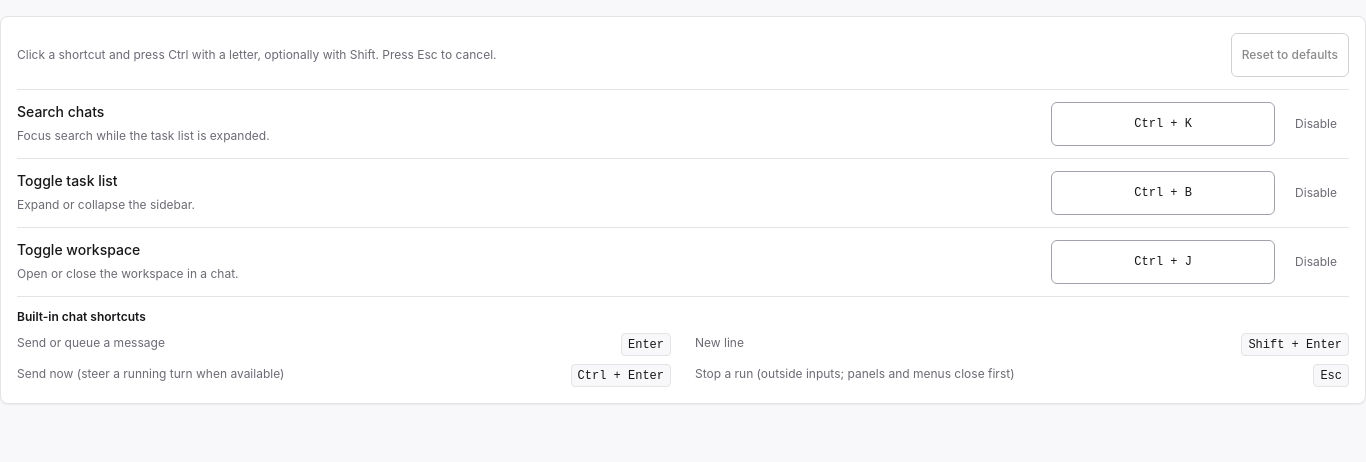
Scenario: keyboard shortcut settings › keeps the old shortcut when a candidate conflicts, is reserved, or has no modifier
Step 1. Click the button with aria-label "Change shortcut for Toggle task list" → (1163, 193), box x1=1051 y1=171 x2=1275 y2=215
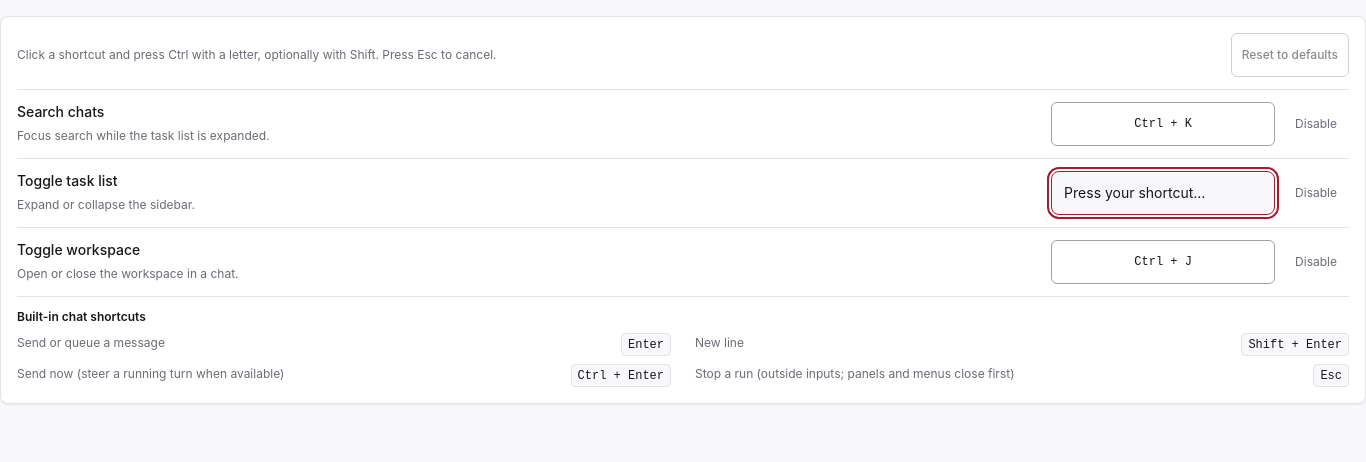
Step 2. Press k in the field named "New shortcut for Toggle task list", box x1=1051 y1=171 x2=1275 y2=215
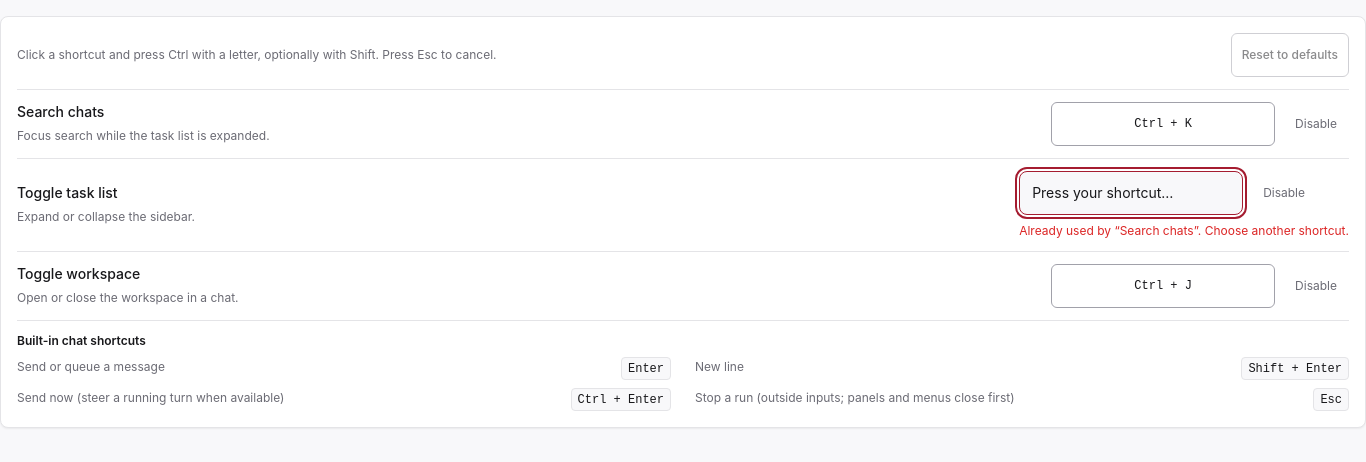
Expected: the message shows "Already used by “Search chats”", x1=1019 y1=223 x2=1349 y2=238
Step 3. Press w in the field named "New shortcut for Toggle task list", box x1=1019 y1=171 x2=1243 y2=215
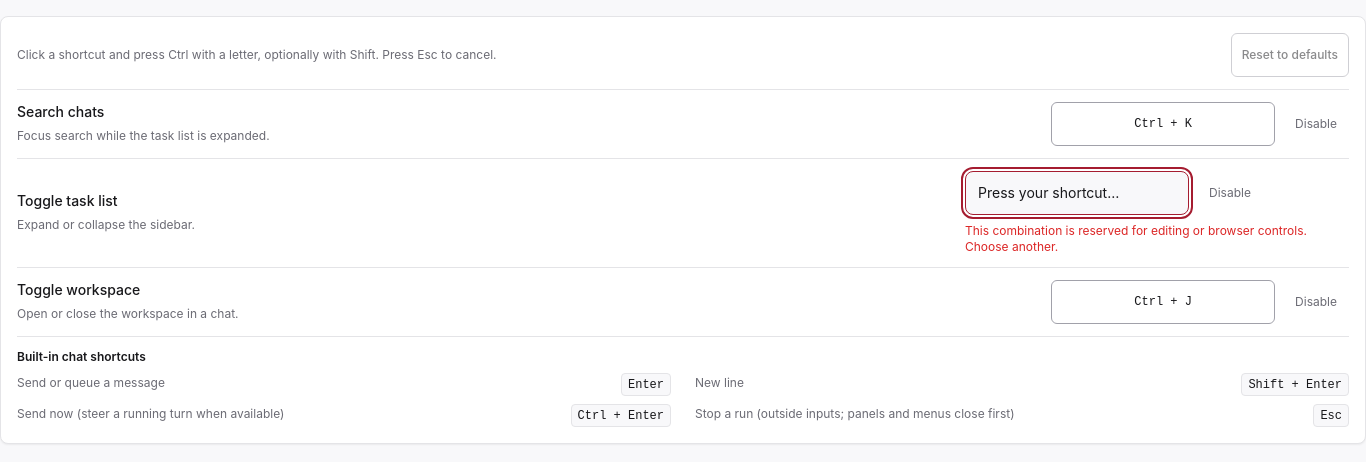
Expected: the message shows "reserved", x1=965 y1=223 x2=1307 y2=254
Step 4. Press g in the field named "New shortcut for Toggle task list", box x1=965 y1=171 x2=1189 y2=215
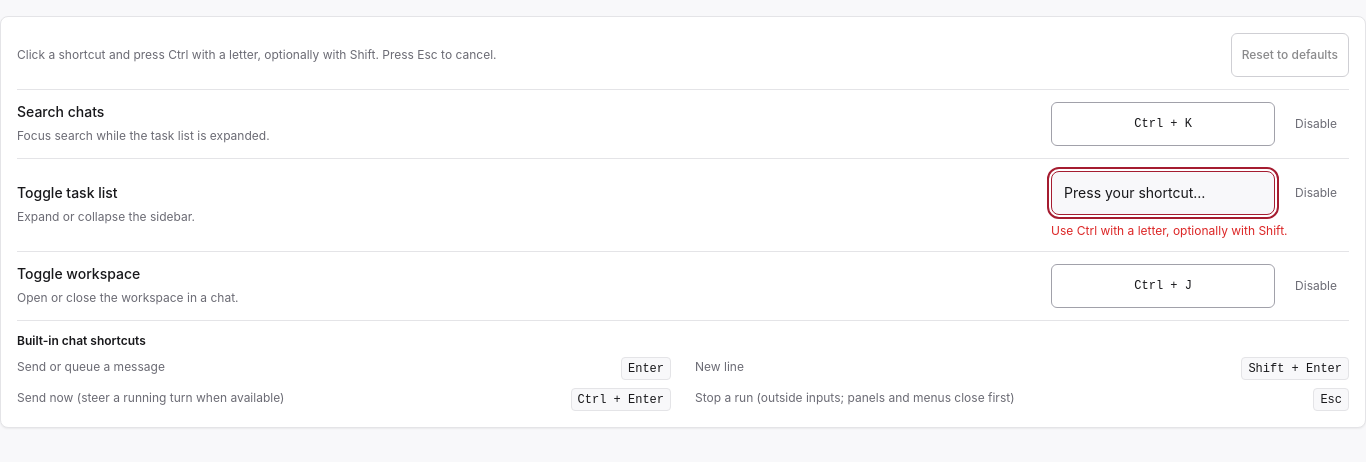
Expected: the message shows "Use Ctrl with a letter", x1=1051 y1=223 x2=1288 y2=238
Step 5. Press g in the field named "New shortcut for Toggle task list", box x1=1051 y1=171 x2=1275 y2=215
Expected: the message shows "Use Ctrl with a letter", x1=1051 y1=223 x2=1288 y2=238
Step 6. Press Escape in the field named "New shortcut for Toggle task list", box x1=1051 y1=171 x2=1275 y2=215
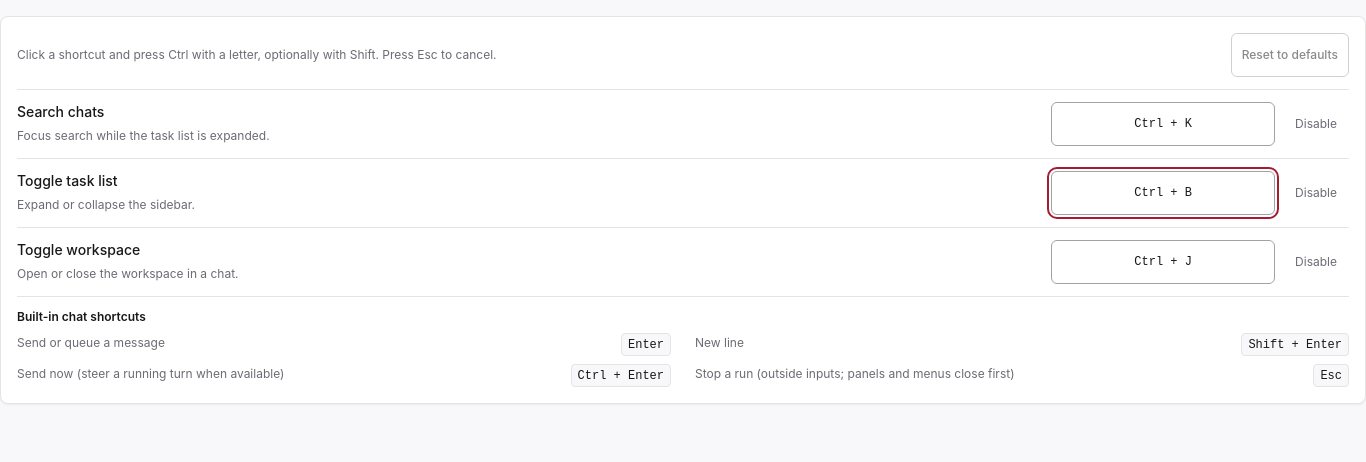
Expected: the field is gone
Expected: the button with aria-label "Change shortcut for Toggle task list" reads "Ctrl + B", x1=1051 y1=171 x2=1275 y2=215
